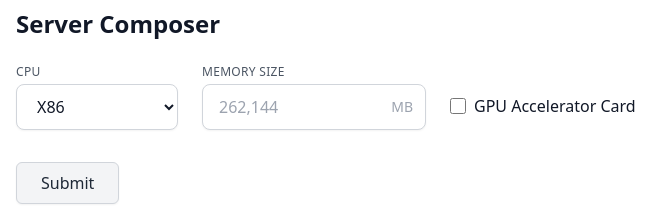
ServerComposer › auto-formats the memory input with thousands separators while typing
Type "2048" into the field labelled "Memory Size" at (291, 107), box [203,85,379,129]
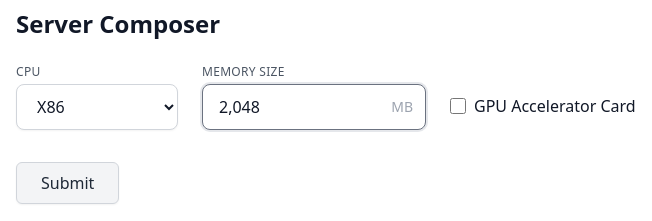
Now the field labelled "Memory Size" holds "2,048", box [203,85,379,129]
